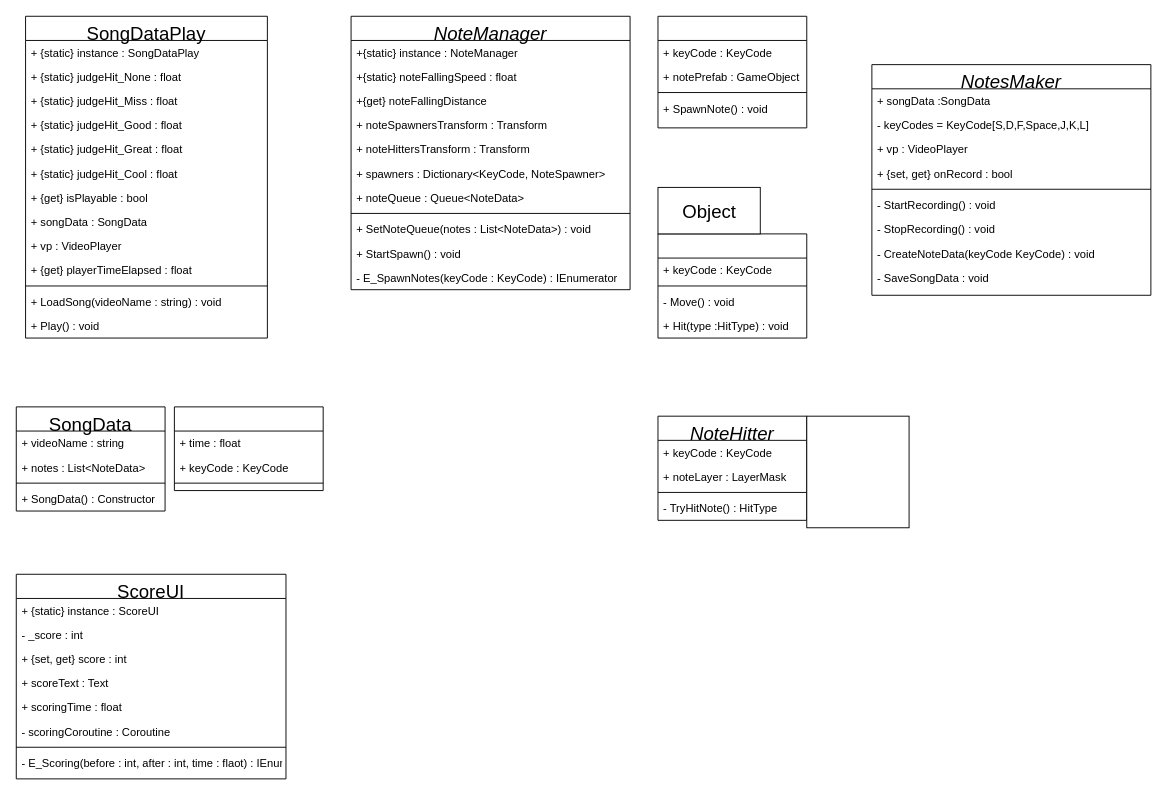
Some shapes in this 1167 by 795 pixel diagram are drawn without their labels. Each missing label, with the box of its shape:
Note: (657, 233, 807, 338)
NoteData: (173, 406, 323, 491)
NoteSpawner: (657, 15, 807, 128)
«ienum» HitType None, Miss, Good, Great, Cool: (806, 415, 909, 528)
